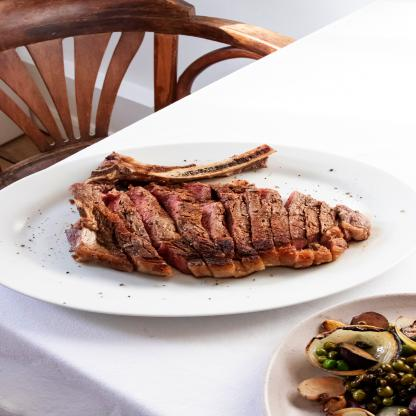Carne: (128, 183, 213, 273), (160, 180, 241, 272), (94, 179, 166, 278), (61, 184, 118, 267), (230, 178, 253, 277), (266, 187, 293, 266), (301, 187, 327, 268), (282, 184, 307, 266), (334, 201, 380, 241), (321, 199, 341, 256)
